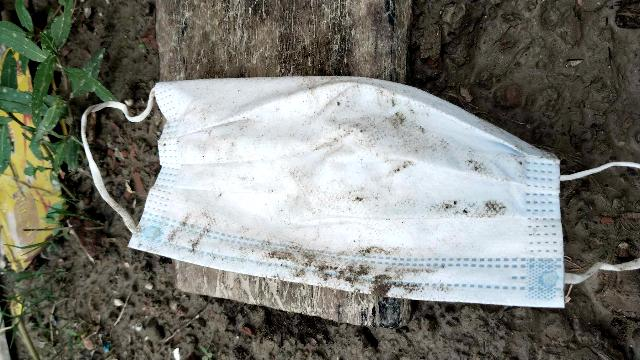mask: (47, 58, 639, 333)
